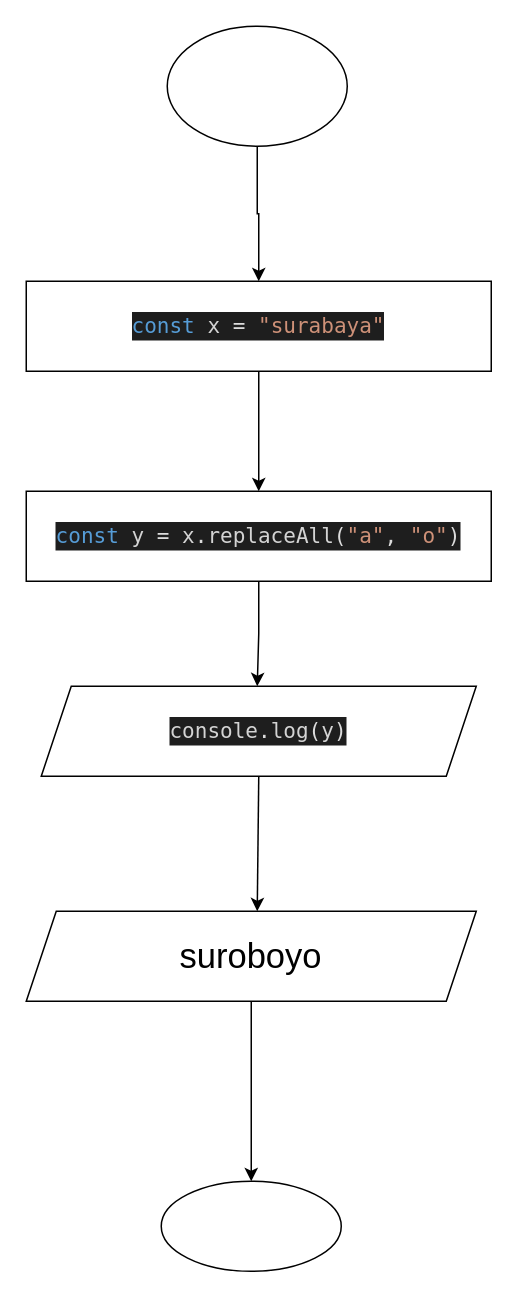
This 518x1298 diagram has some shape labels left out. Here are the shapes that lost their labels. From the top down, the centre of each, then its label:
[256,85]: mulai
[250,1225]: selesai
